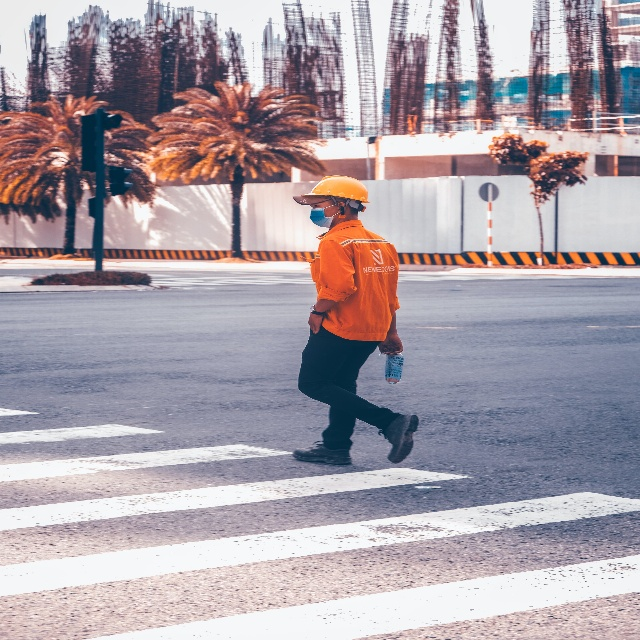Mascara: (309, 204, 340, 228)
Sin_guantes: (378, 331, 403, 358), (307, 310, 323, 335)
